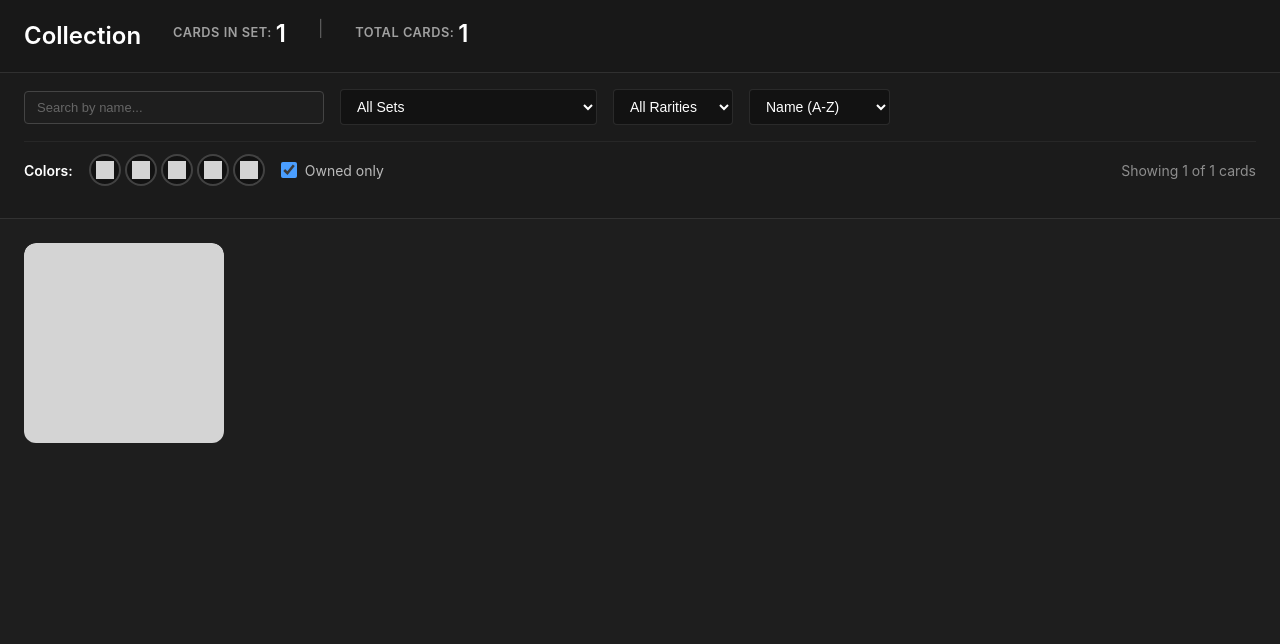
Collection › Set Completion Panel › should toggle Set Completion panel visibility when set is selected
Expected: the heading "Collection" is shown, [24,18,141,54]
// Select a set
Select "Strixhaven Mystical Archive (STA)" in the 1st dropdown showing "All Sets" at x=468, y=107, box [340,89,597,125]
Wait 100 ms
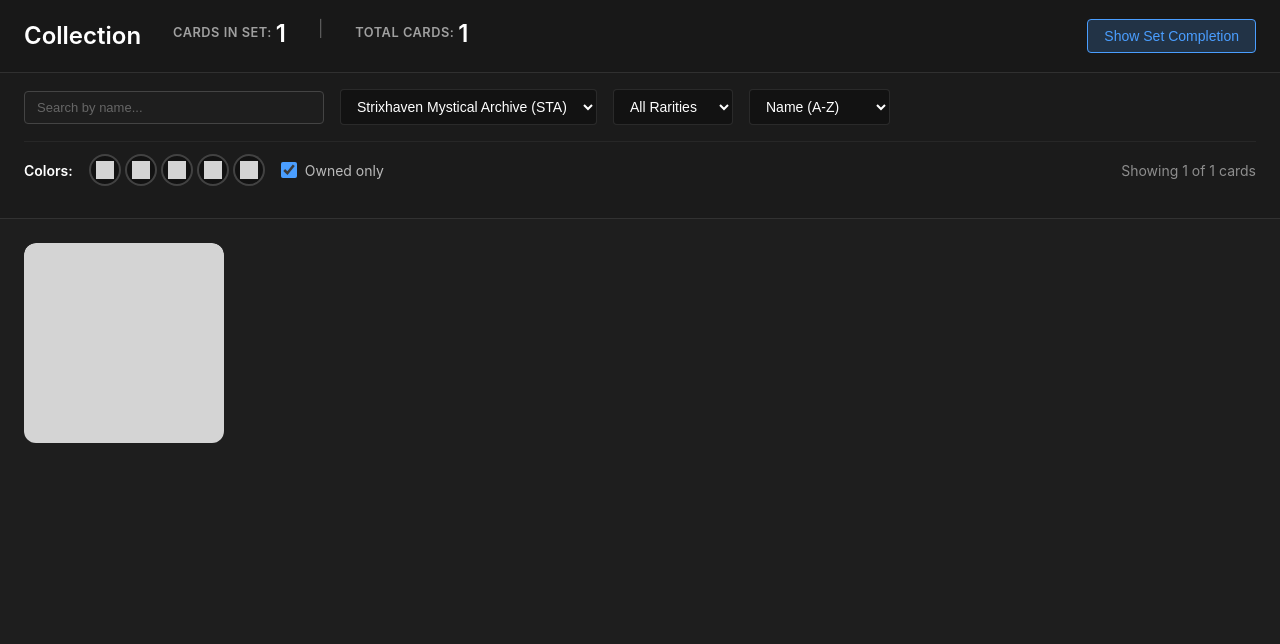
Expected: the button "Show Set Completion" is shown
Click the button "Show Set Completion" at x=1172, y=36, box [1087,19,1256,53]
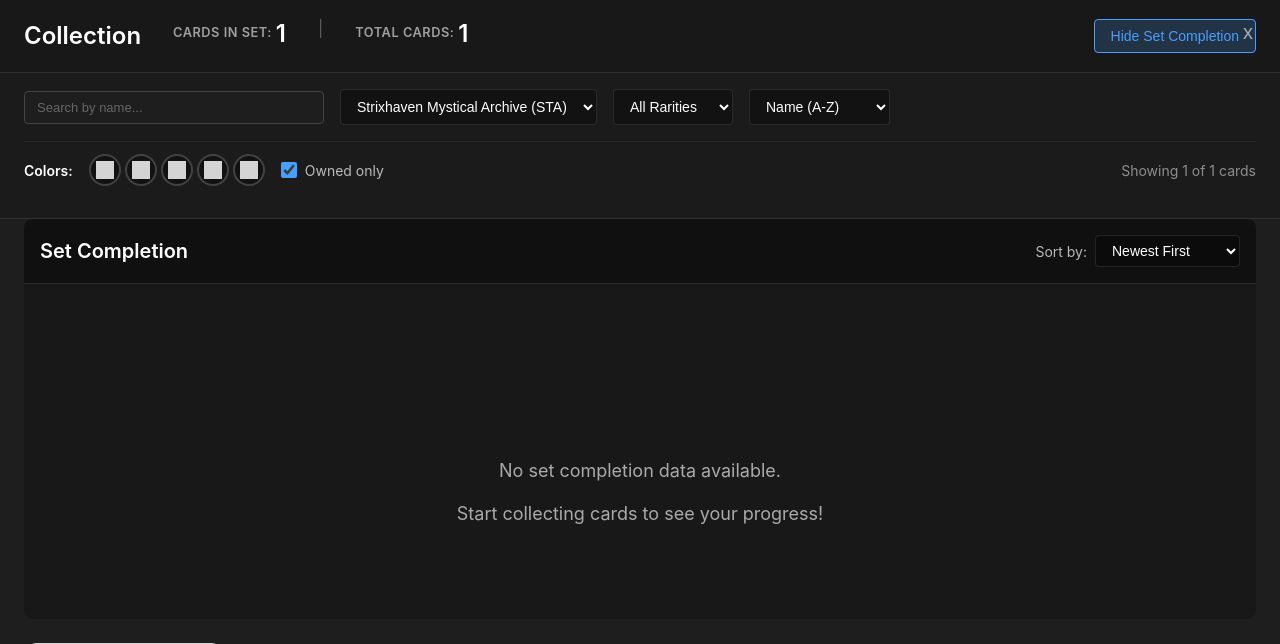
Expected: the button "Hide Set Completion" is shown, [1094,19,1256,53]
